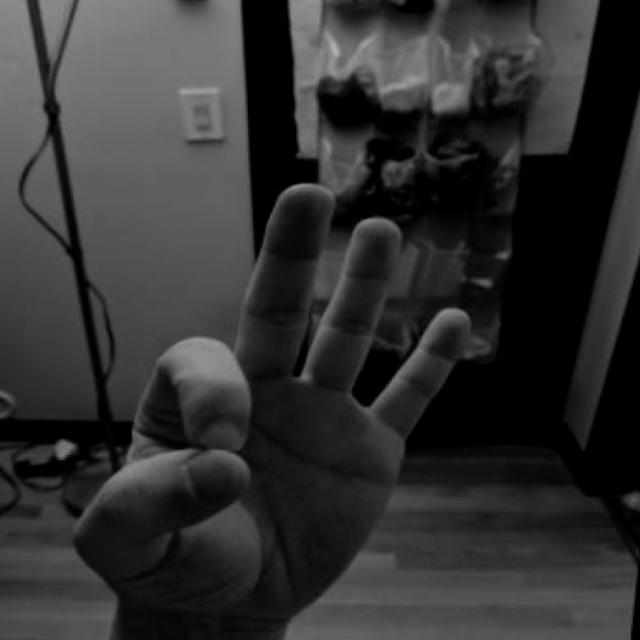F: (59, 173, 484, 640)
